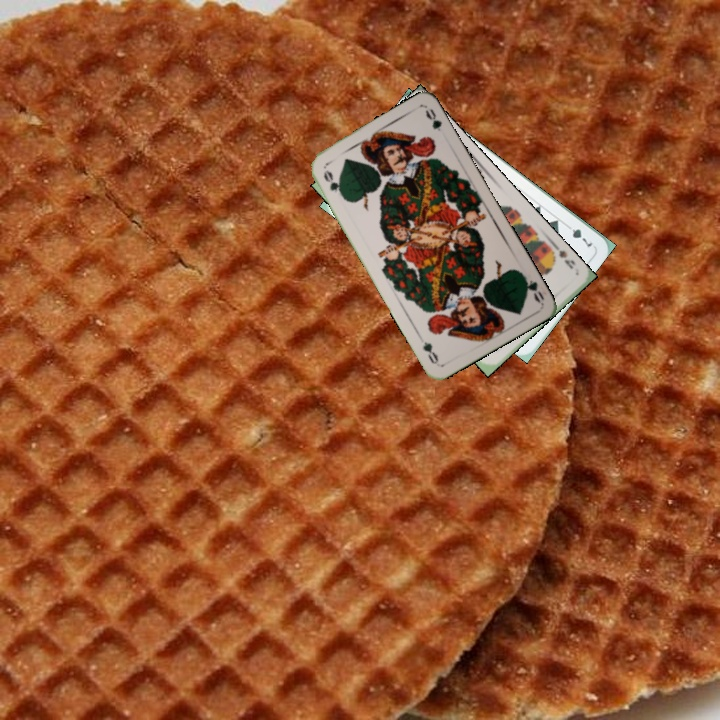G7: (561, 220, 595, 251)
GO: (319, 166, 346, 201), (517, 269, 543, 305)
S9: (543, 239, 578, 272)
